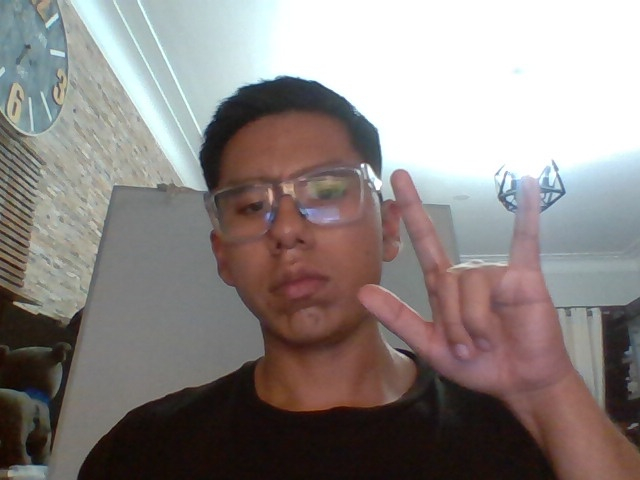I Love you: (358, 168, 563, 396)
